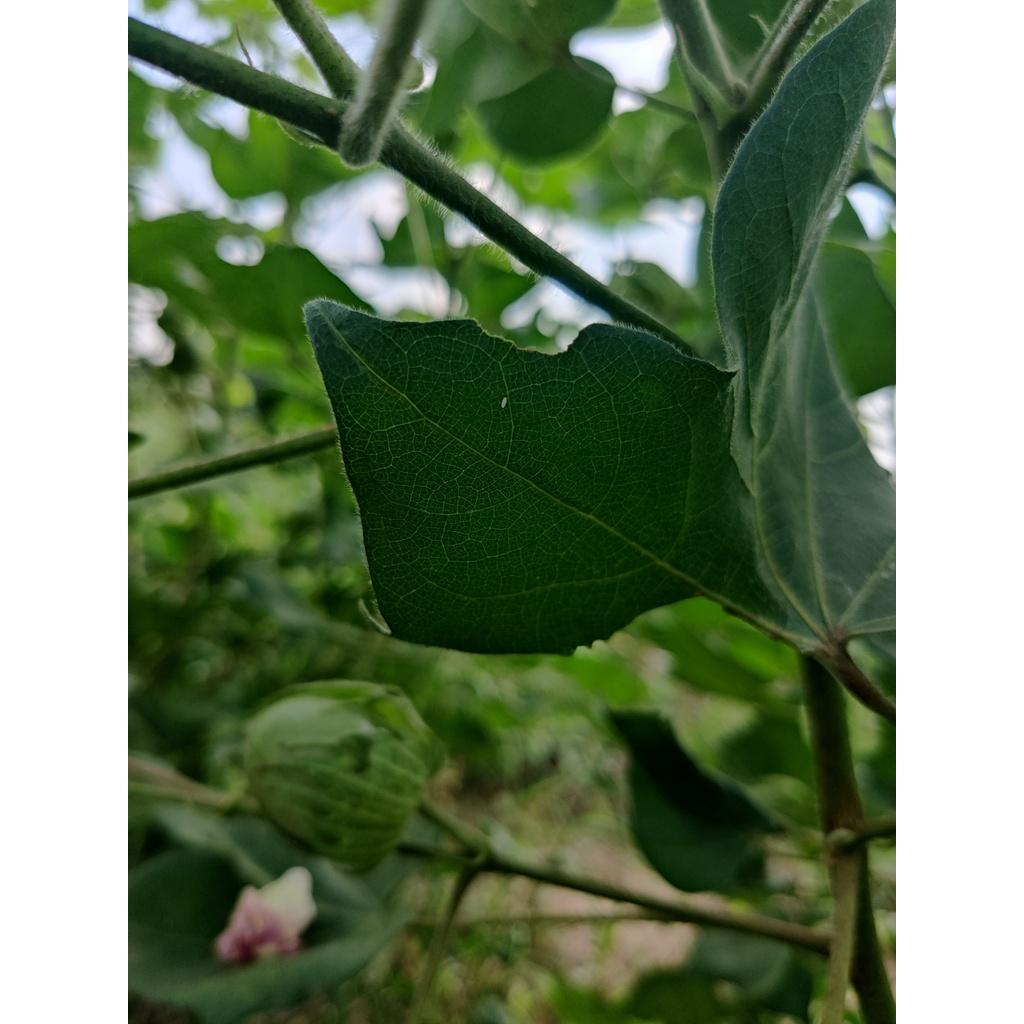adult: (500, 397, 508, 408)
